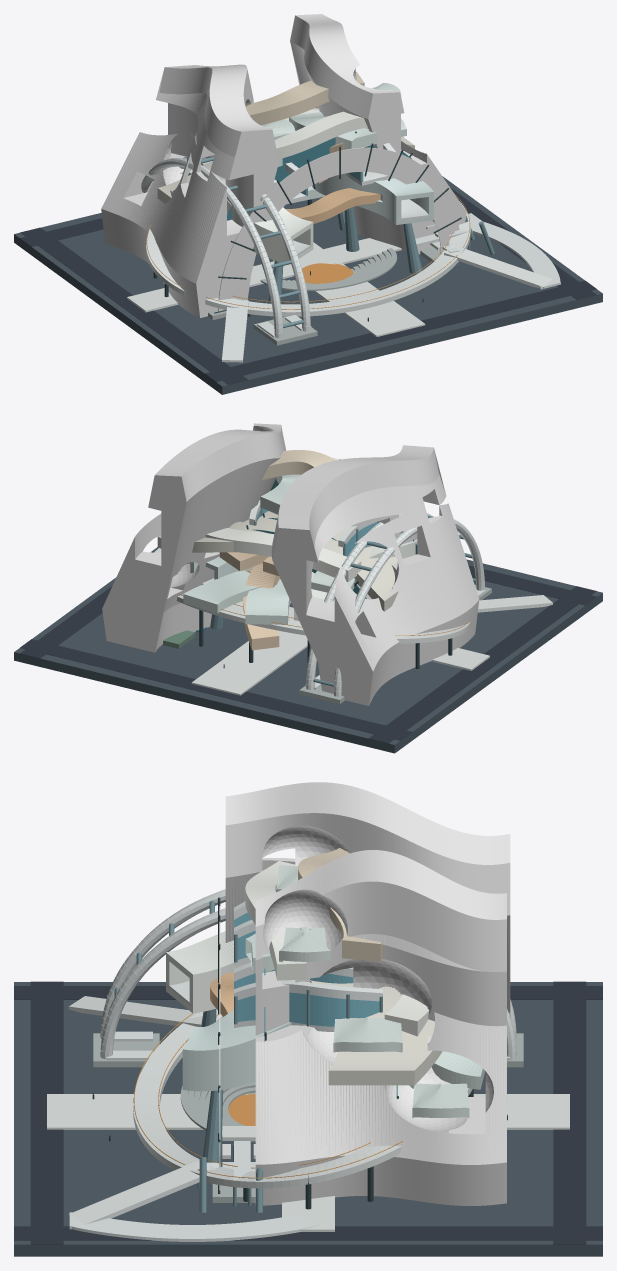
Rendered from a13_c_unified_megafold.glb.
3 views of the same model, one above another, from view 1: azimuth 30°, elevation 25°; view 2: azimuth 150°, elevation 25°; view 3: azimuth 270°, elevation 25° (orthographic). The views are drawn at different scales.
Visible parts, largest first — view 1: A11_WEST_FAULT_ESCARPMENT_REAL_VOID, District base, A11_EAST_SKY_FOLD_REAL_VOID, SOUTH continuous glazed occupied band_A9_FLARED, Continuous elliptical public promenade, E-W road, N-S road, A10_EAST_INHABITED_TIDAL_SHELL, Public ground, continuous E-W axis, Public ground, continuous N-S axis, A12_UPPER_UNIFIED_CIVIC_CRESCENT, A11_HIGH_CREST_TRANSECT (+14 smaller); view 2: A11_WEST_FAULT_ESCARPMENT_REAL_VOID, District base, A11_EAST_SKY_FOLD_REAL_VOID, E-W road.001, N-S road, Public ground, continuous N-S axis, A13_MIDDLE_INHABITED_CIVIC_FOLD, A11_LOW_FAULT_SKY_BOULEVARD, A11_EAST_OCCUPIED_STRATUM_0, A11_WEST_OCCUPIED_STRATUM_0, Continuous elliptical public promenade, E-W road (+9 smaller); view 3: A11_EAST_SKY_FOLD_REAL_VOID, District base, A11_WEST_FAULT_ESCARPMENT_REAL_VOID, E-W road, E-W road.001, Continuous elliptical public promenade, Public ground, continuous N-S axis, N-S road.001, A10_EAST_INHABITED_TIDAL_SHELL, A13_MIDDLE_INHABITED_CIVIC_FOLD, A7_APPROACH_CURVED_DECK, A10_WEST_INHABITED_FAULT_SHELL (+17 smaller).
Part boxes in pixels (x1,y1,x2,y2): A11_WEST_FAULT_ESCARPMENT_REAL_VOID: [101, 64, 278, 317]; District base: [14, 176, 602, 394]; A11_EAST_SKY_FOLD_REAL_VOID: [290, 14, 466, 254]; SOUTH continuous glazed occupied band_A9_FLARED: [218, 147, 459, 311]; Continuous elliptical public promenade: [146, 202, 470, 316]; E-W road: [205, 280, 596, 381]; N-S road: [20, 227, 247, 384]; A10_EAST_INHABITED_TIDAL_SHELL: [312, 173, 433, 224]; Public ground, continuous E-W axis: [127, 213, 481, 312]; Public ground, continuous N-S axis: [269, 242, 425, 336]; A12_UPPER_UNIFIED_CIVIC_CRESCENT: [245, 71, 364, 125]; A11_HIGH_CREST_TRANSECT: [274, 111, 367, 159]; A11_WEST_FAULT_ESCARPMENT_REAL_VOID: [271, 445, 479, 705]; District base: [14, 547, 602, 753]; A11_EAST_SKY_FOLD_REAL_VOID: [102, 423, 286, 652]; E-W road.001: [20, 639, 411, 740]; N-S road: [368, 586, 596, 743]; Public ground, continuous N-S axis: [191, 630, 307, 695]; A13_MIDDLE_INHABITED_CIVIC_FOLD: [157, 511, 398, 611]; A11_LOW_FAULT_SKY_BOULEVARD: [205, 528, 361, 581]; A11_EAST_OCCUPIED_STRATUM_0: [183, 570, 260, 613]; A11_WEST_OCCUPIED_STRATUM_0: [245, 579, 290, 624]; Continuous elliptical public promenade: [176, 594, 470, 643]; E-W road: [468, 565, 596, 605]; A11_EAST_SKY_FOLD_REAL_VOID: [255, 850, 506, 1205]; District base: [14, 982, 602, 1256]; A11_WEST_FAULT_ESCARPMENT_REAL_VOID: [225, 782, 510, 1016]; E-W road: [30, 981, 63, 1244]; E-W road.001: [553, 981, 586, 1244]; Continuous elliptical public promenade: [133, 1009, 472, 1188]; Public ground, continuous N-S axis: [47, 1094, 569, 1129]; N-S road.001: [14, 1226, 602, 1240]; A10_EAST_INHABITED_TIDAL_SHELL: [182, 1010, 414, 1091]; A13_MIDDLE_INHABITED_CIVIC_FOLD: [310, 980, 442, 1085]; A7_APPROACH_CURVED_DECK: [69, 1212, 318, 1241]; A10_WEST_INHABITED_FAULT_SHELL: [166, 931, 250, 1013].
Bounding box in the file's own units: 188 × 98.06 × 178.
